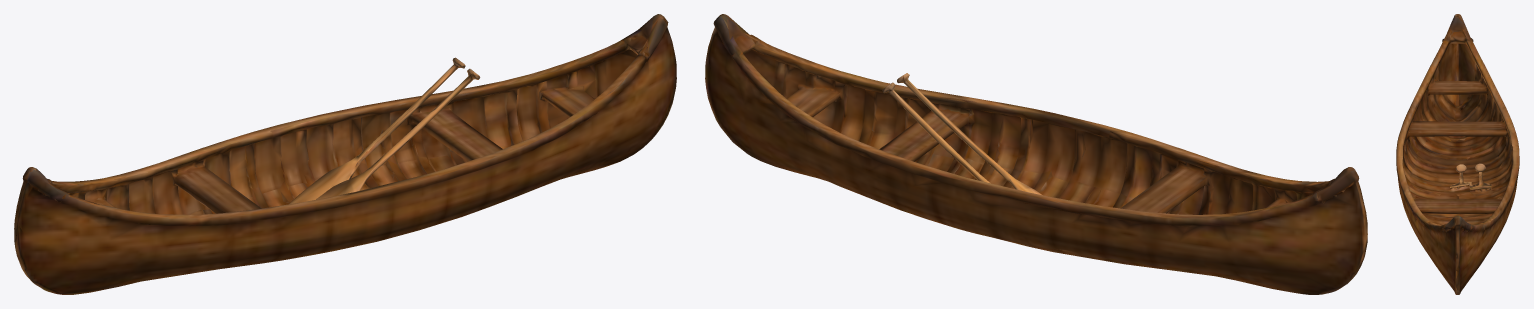
File: city_van_canoe.glb
The picture shows the model from 3 angles, left to right: view 1: azimuth 30°, elevation 25°; view 2: azimuth 150°, elevation 25°; view 3: azimuth 270°, elevation 25°; orthographic projection. The views are drawn at different scales.
Parts seen in each view (by area): view 1: Mesh1.0; view 2: Mesh1.0; view 3: Mesh1.0.
Boxes of the visible parts, left/top/right/bottom form: Mesh1.0: left=14, top=14, right=676, bottom=294; Mesh1.0: left=705, top=14, right=1367, bottom=294; Mesh1.0: left=1396, top=14, right=1519, bottom=294.
Size of the model in its own units: 5.07 by 1 by 1.24.
1 material, 1 textured.
